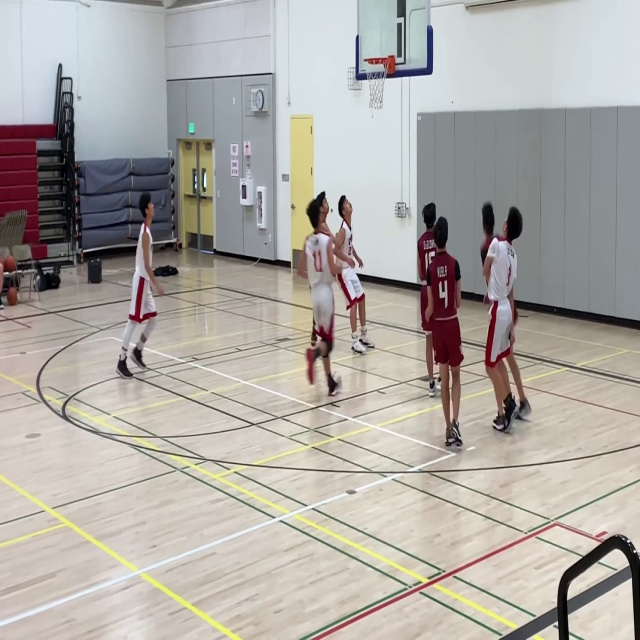Basketball: (3, 255, 16, 272), (7, 287, 18, 305)
